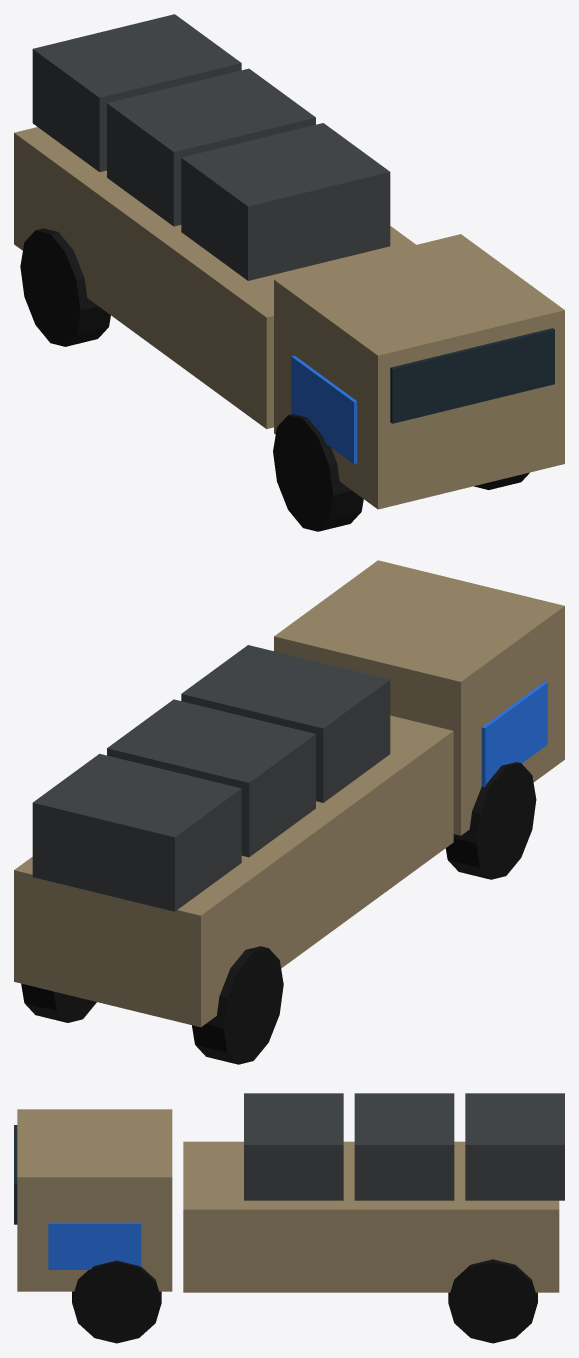
Rendered from ae_logistics_truck.glb.
3 views of the same model, one above another, from view 1: azimuth 30°, elevation 25°; view 2: azimuth 150°, elevation 25°; view 3: azimuth 270°, elevation 25° (orthographic). The views are drawn at different scales.
Visible parts, largest first — view 1: cab, body, crate_0, crate_2, crate_1, windshield, wheel_l1, wheel_l0, team_door_l; view 2: body, cab, crate_2, crate_0, crate_1, wheel_l1, wheel_l0, team_door_l, wheel_r1; view 3: body, cab, crate_1, crate_0, crate_2, wheel_r1, wheel_r0, team_door_r, windshield.
Boxes of the visible parts, x1,y1,x2,y2 form: cab: (274, 234, 564, 509); body: (14, 127, 415, 429); crate_0: (181, 123, 390, 280); crate_2: (32, 14, 241, 171); crate_1: (107, 68, 315, 226); windshield: (390, 328, 554, 423); wheel_l1: (20, 228, 110, 346); wheel_l0: (273, 414, 363, 531); team_door_l: (291, 355, 357, 463); body: (14, 715, 453, 1027); cab: (274, 560, 564, 835); crate_2: (32, 753, 241, 911); crate_0: (181, 645, 390, 802); crate_1: (107, 699, 315, 857); wheel_l1: (192, 946, 283, 1064); wheel_l0: (445, 762, 536, 879); team_door_l: (481, 682, 547, 787); wheel_r1: (21, 983, 96, 1022); body: (183, 1141, 559, 1292); cab: (17, 1109, 172, 1291); crate_1: (354, 1093, 454, 1200); crate_0: (244, 1093, 343, 1200); crate_2: (465, 1093, 564, 1200); wheel_r1: (448, 1259, 537, 1343); wheel_r0: (72, 1260, 161, 1343); team_door_r: (48, 1222, 141, 1269); windshield: (14, 1125, 17, 1224).
Bounding box in the file's own units: 2.4 × 2.84 × 7.57.
